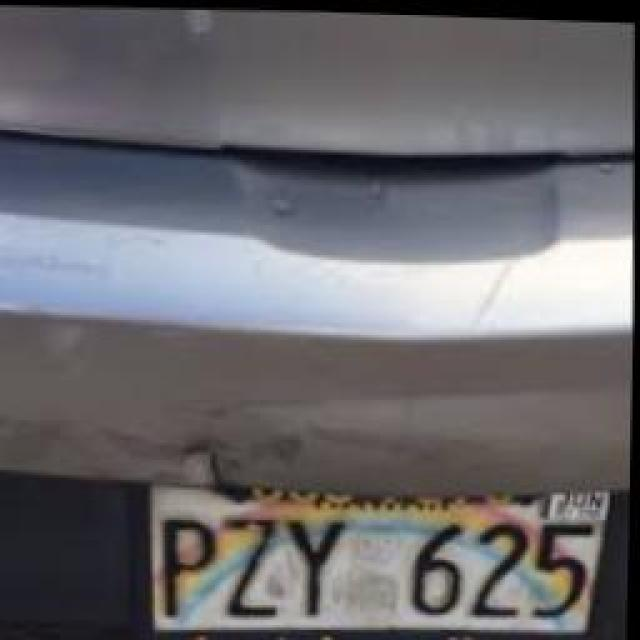Bumper: (0, 115, 638, 511)
